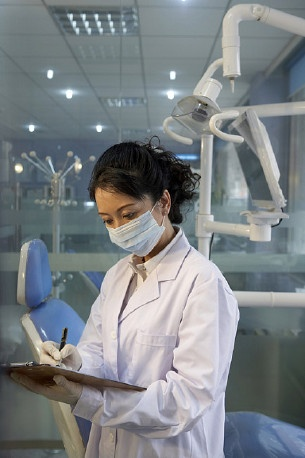Mask: (101, 204, 163, 265)
